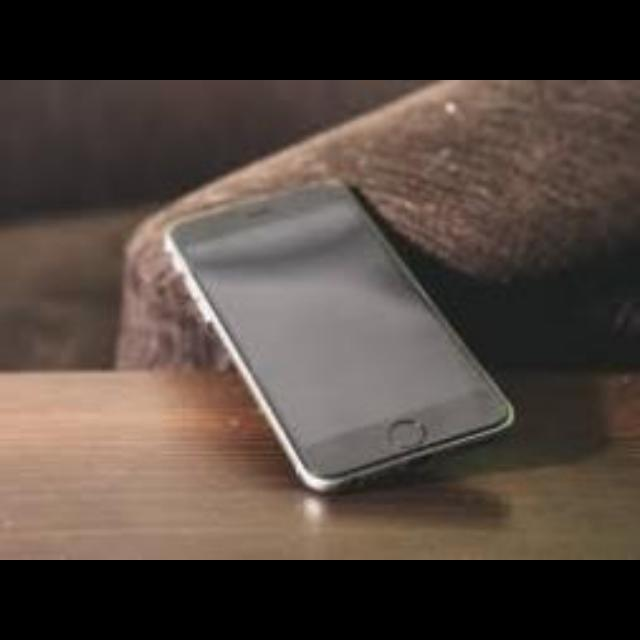phone: (158, 152, 632, 502)
